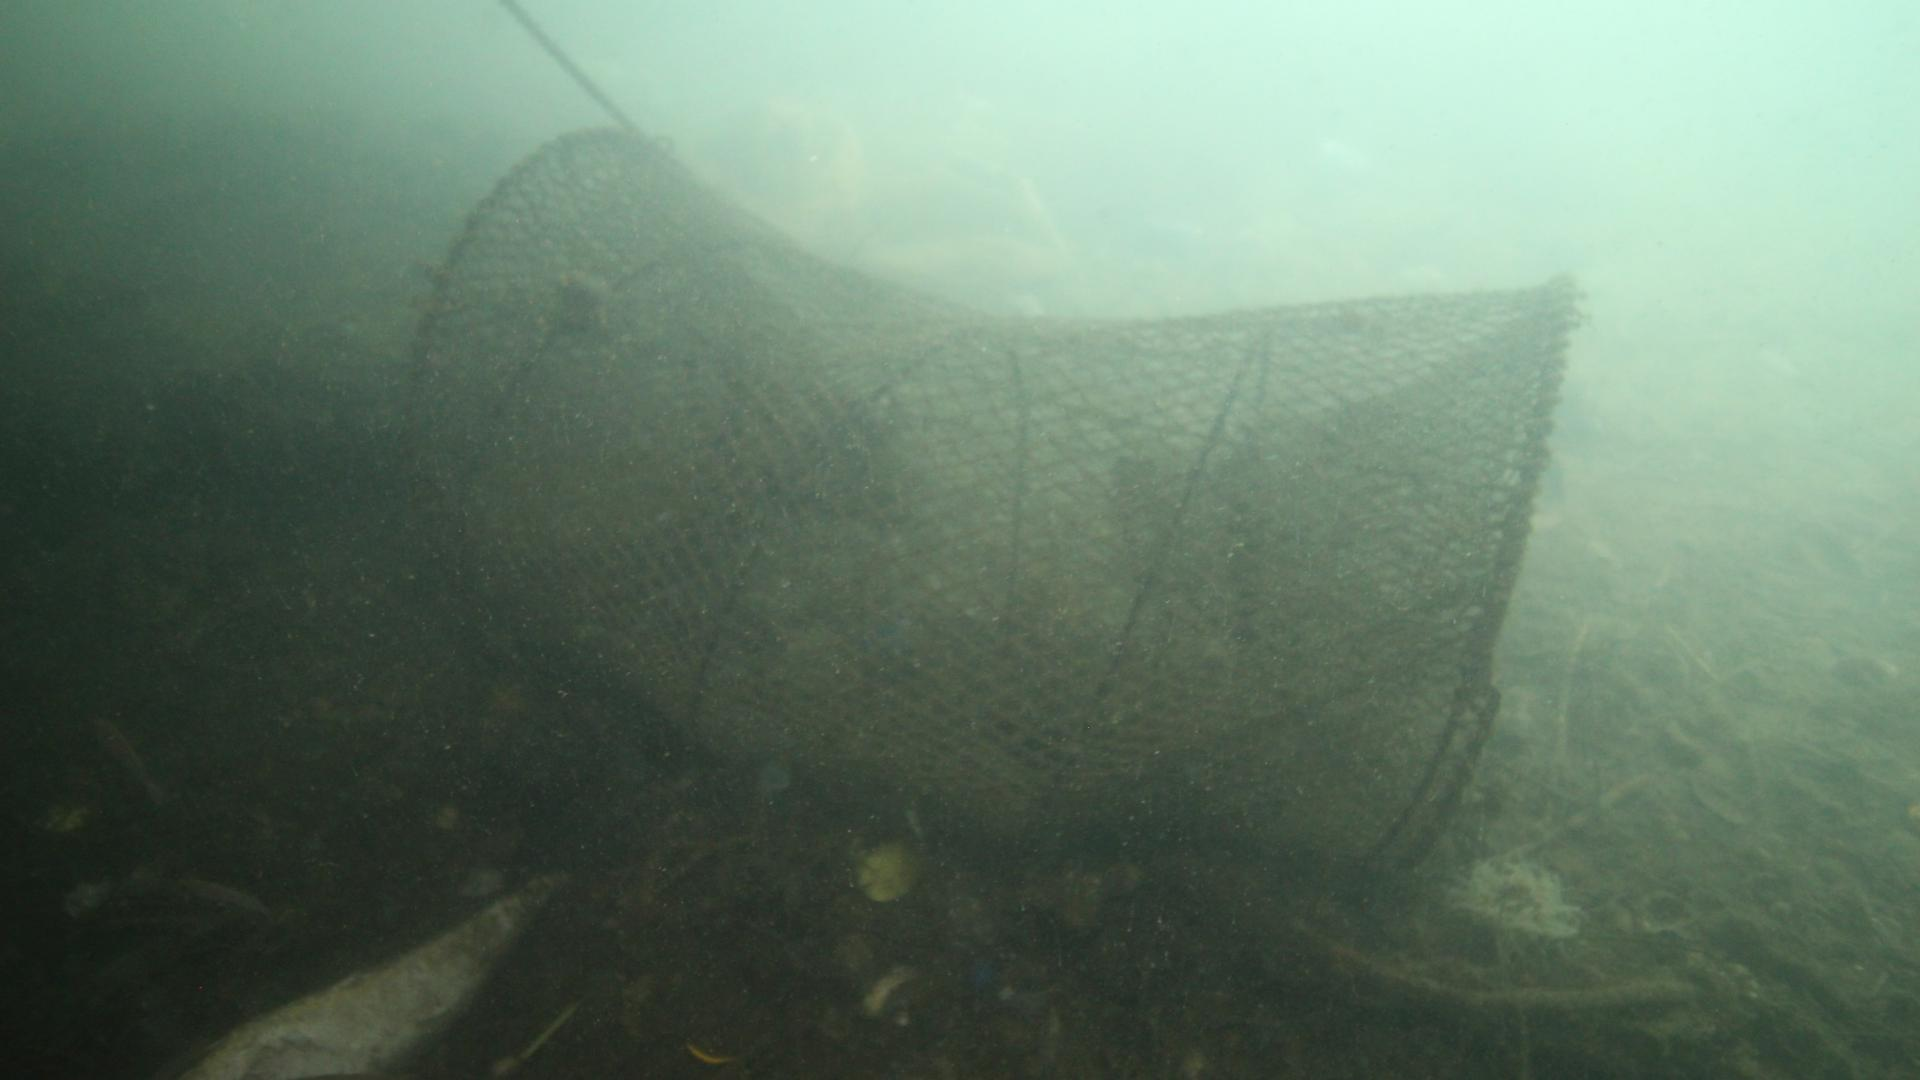spring fish trap: (405, 124, 1580, 877)
